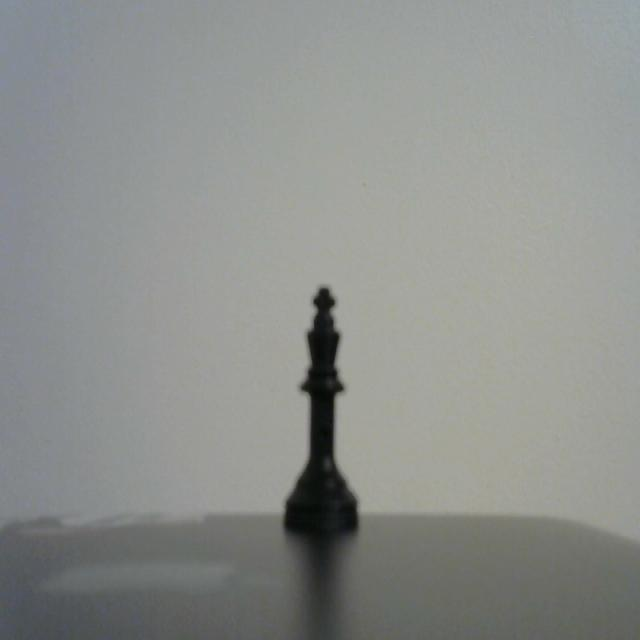black-king: (270, 270, 369, 544)
